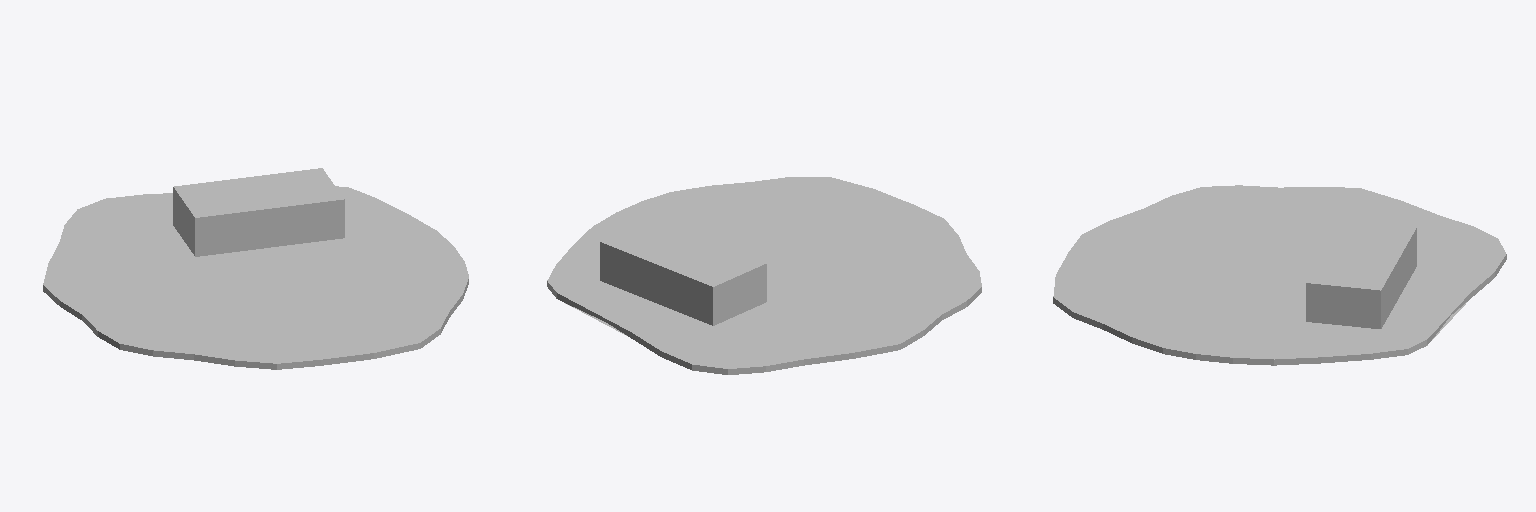
The model's file is park_platform_collider_mesh.obj.
3 views of the same model, side by side, from view 1: azimuth 30°, elevation 25°; view 2: azimuth 150°, elevation 25°; view 3: azimuth 270°, elevation 25° (orthographic).
Visible parts, largest first — view 1: Circle.001; view 2: Circle.001; view 3: Circle.001.
Boxes of the visible parts, x1,y1,x2,y2 form: Circle.001: [43, 168, 468, 369]; Circle.001: [547, 177, 981, 374]; Circle.001: [1053, 185, 1506, 365].
Size of the model in its own units: 6.36 by 0.7663 by 6.99.